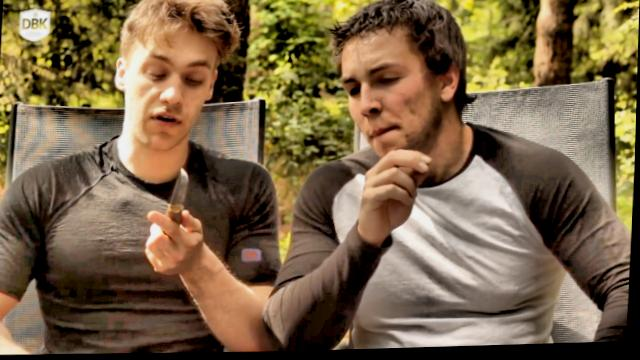knife: (140, 159, 205, 264)
